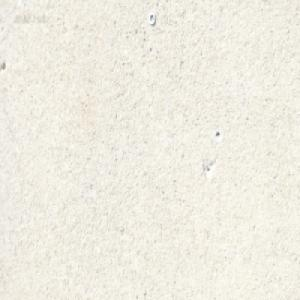Washer: (148, 11, 156, 26)
